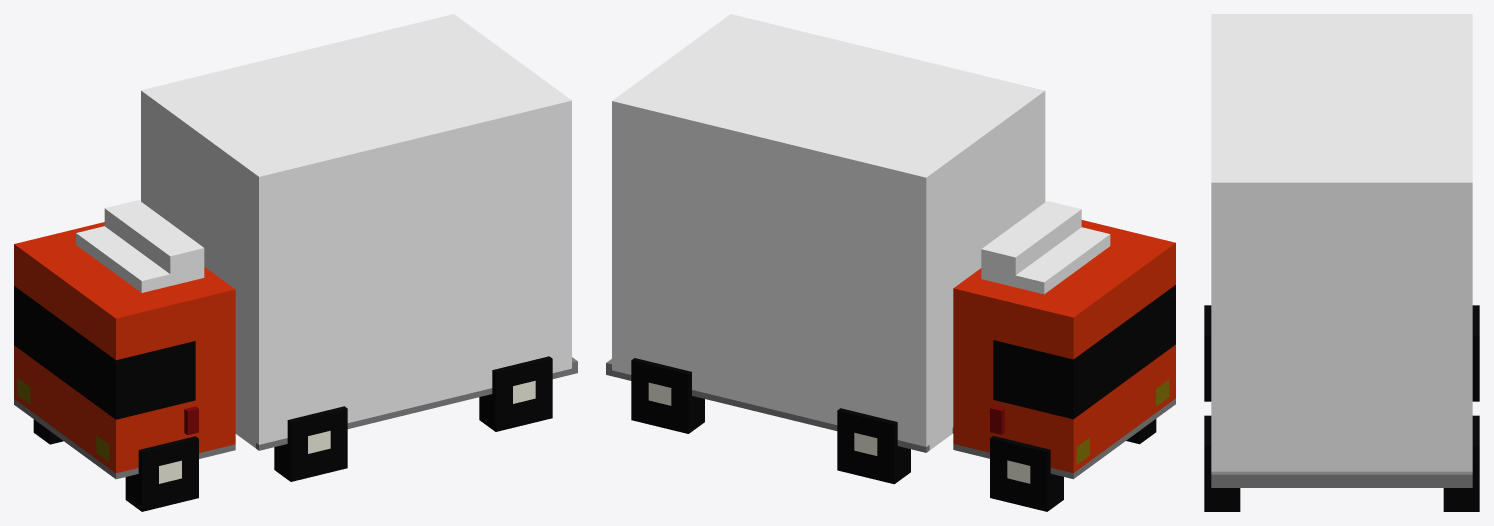
The model's file is camion.obj.
3 views of the same model, side by side, from view 1: azimuth 30°, elevation 25°; view 2: azimuth 150°, elevation 25°; view 3: azimuth 270°, elevation 25° (orthographic). The views are drawn at different scales.
Bounding box in the file's own units: 80 × 52 × 38.
Materials: 1 (1 with a texture image).
